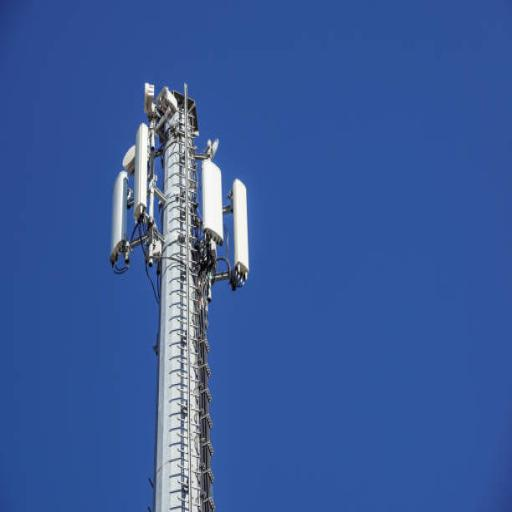monopole_tower: (110, 79, 252, 512)
